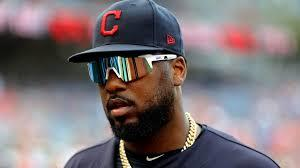cap: (68, 0, 195, 65)
sunglasses: (85, 54, 173, 85)
